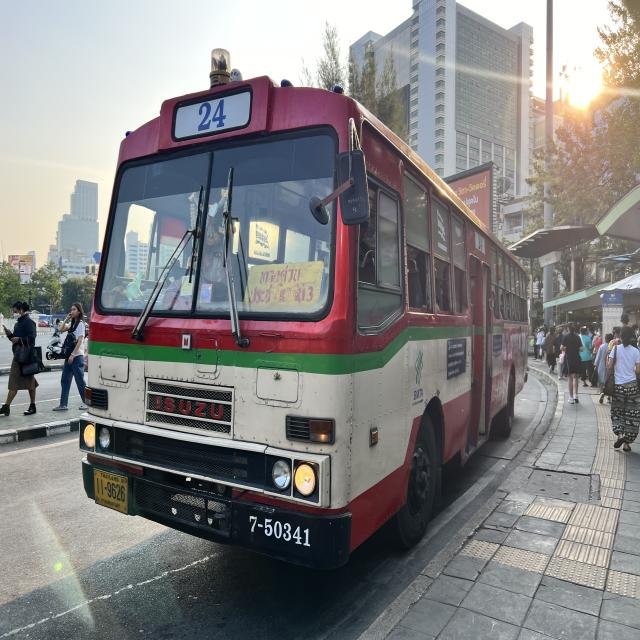BMTA-bus: (78, 76, 531, 574)
Bus-Line-Number: (190, 95, 233, 134)
Destination-Sign-Normal-Expressway: (247, 262, 323, 303)
